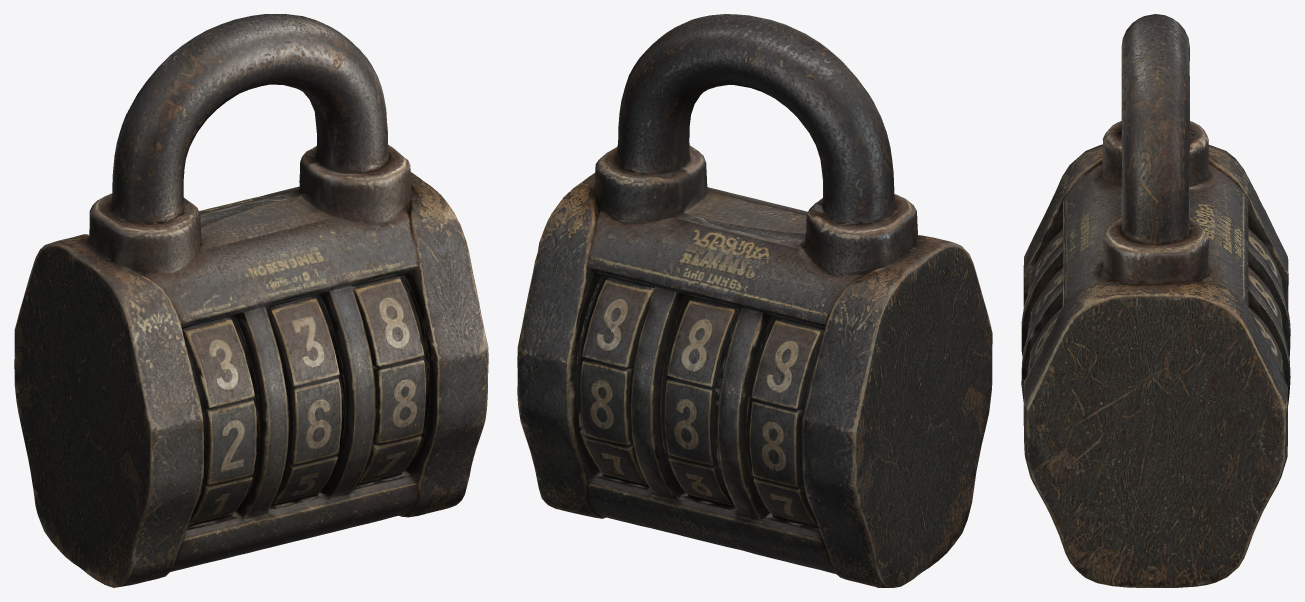
Rendered from Prop_CombinationLock.fbx.
3 views of the same model, side by side, from view 1: azimuth 30°, elevation 25°; view 2: azimuth 150°, elevation 25°; view 3: azimuth 270°, elevation 25° (orthographic). The views are drawn at different scales.
Parts seen in each view (by area): view 1: texture_mapping; view 2: texture_mapping; view 3: texture_mapping.
Boxes of the visible parts, x1,y1,x2,y2 form: texture_mapping: (14,14,488,587); texture_mapping: (517,14,992,587); texture_mapping: (1021,14,1290,587).
Bounding box in the file's own units: 0.6977 × 0.5066 × 1.
1 material, 1 textured.
